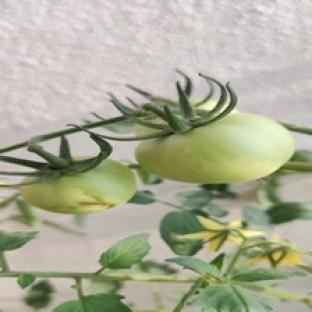Tomato: (136, 113, 293, 183), (21, 159, 136, 214), (134, 124, 160, 135)
